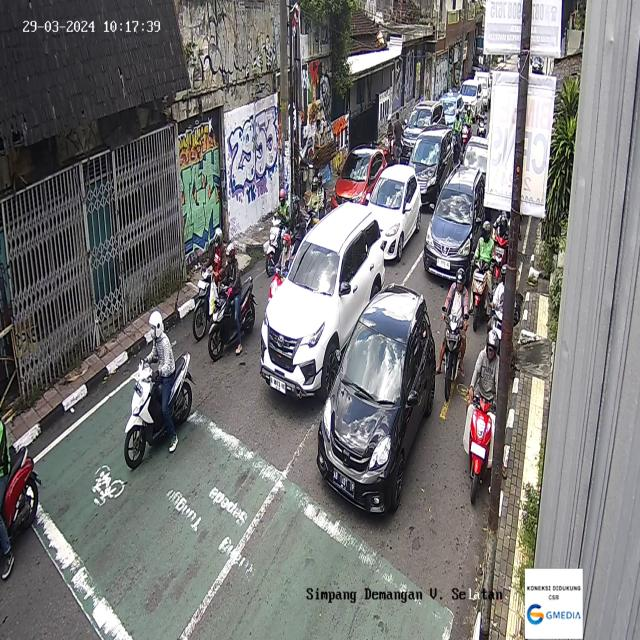car: (316, 282, 436, 516), (259, 201, 385, 402), (423, 163, 485, 284), (361, 163, 422, 262), (330, 144, 387, 212), (409, 126, 454, 210), (400, 98, 446, 163), (459, 79, 484, 122), (439, 90, 463, 127)
motorcycle: (123, 309, 195, 470), (462, 328, 500, 505), (207, 245, 257, 362), (192, 228, 231, 342), (440, 268, 468, 402), (470, 218, 494, 330), (266, 187, 294, 276), (268, 232, 294, 308), (487, 265, 507, 351), (304, 172, 327, 234), (493, 208, 510, 281), (287, 193, 306, 256), (384, 117, 399, 163), (462, 102, 473, 154), (451, 109, 461, 162), (476, 103, 487, 138)
